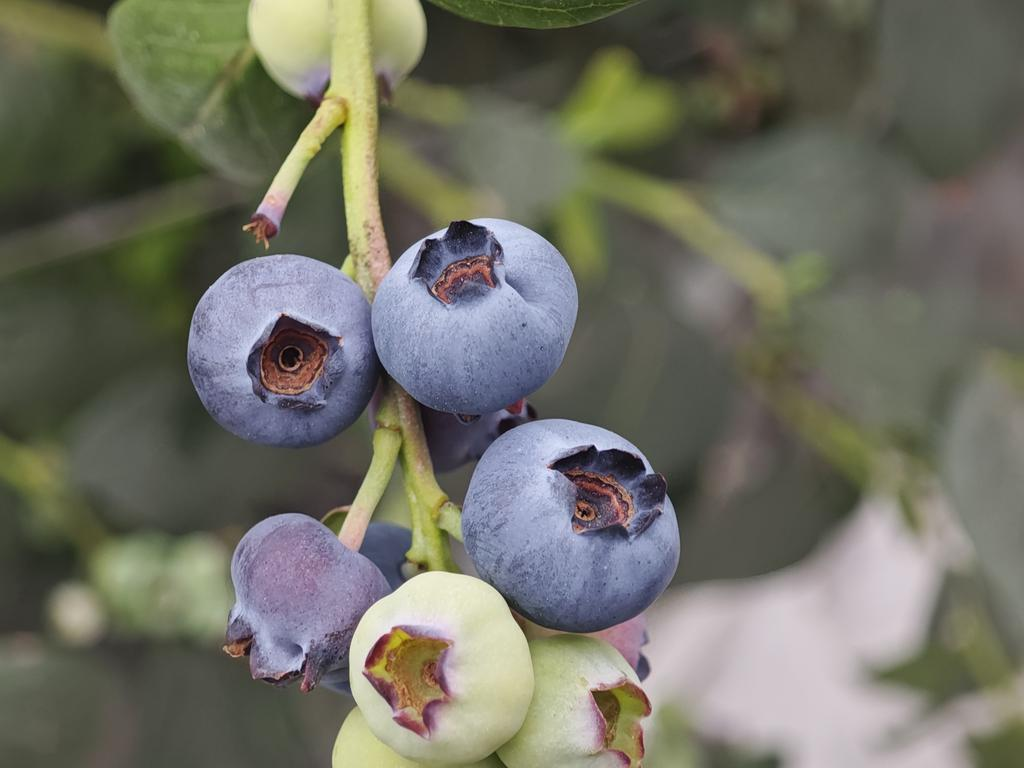RipeBlueBerry: (454, 410, 689, 633), (367, 209, 606, 420), (168, 242, 387, 440), (336, 573, 540, 761)
